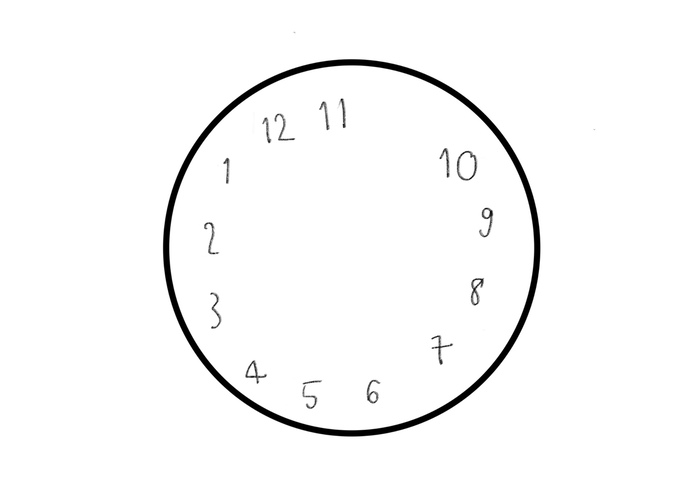eight: (466, 273, 491, 308)
eleven: (313, 95, 351, 132)
five: (296, 372, 322, 413)
four: (241, 354, 269, 386)
nine: (478, 204, 499, 243)
one: (218, 149, 234, 186)
seven: (425, 328, 453, 372)
six: (359, 373, 383, 408)
ten: (438, 140, 481, 183)
three: (201, 287, 227, 329)
twelve: (259, 110, 296, 148)
two: (195, 214, 227, 263)
